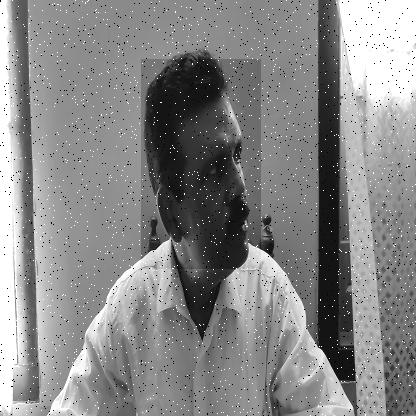Distracted: (141, 59, 261, 269)
